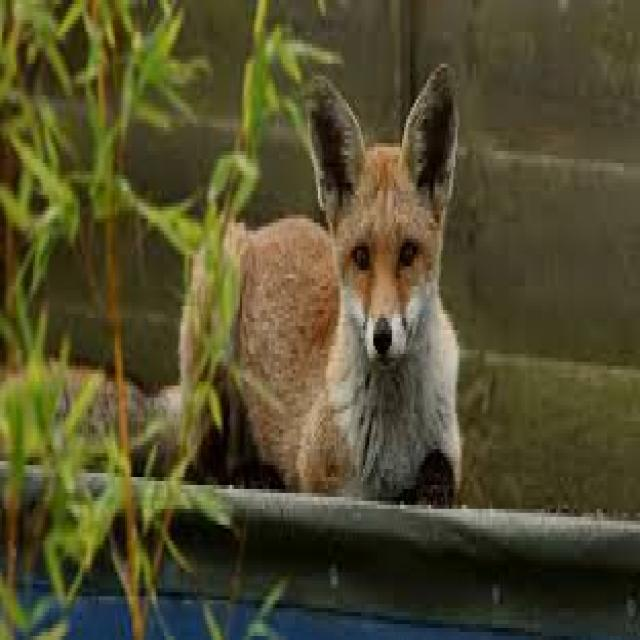fox: (228, 64, 462, 501)
